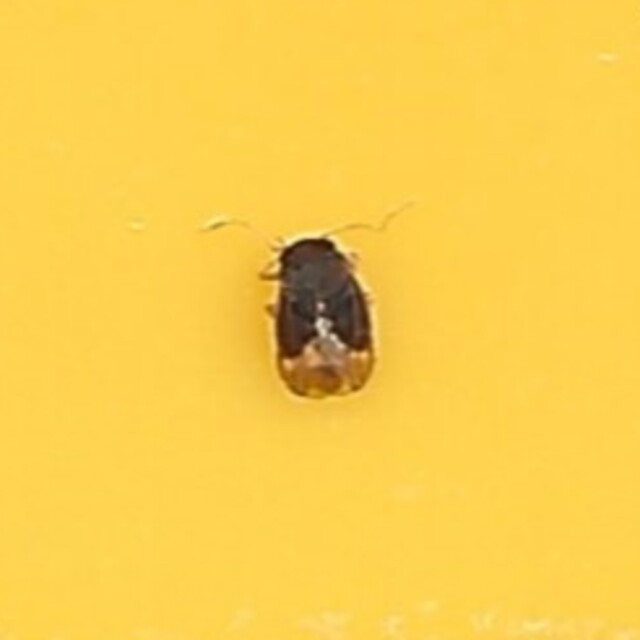Hemiptera: (260, 232, 380, 408)
